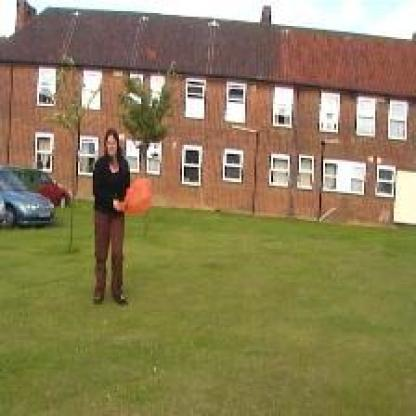other: (118, 171, 149, 214)
